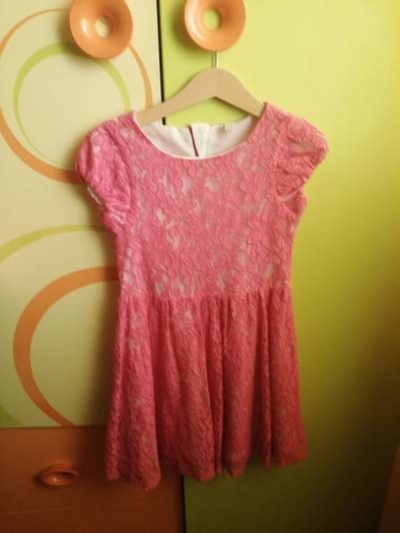Dress: (44, 75, 325, 488)
